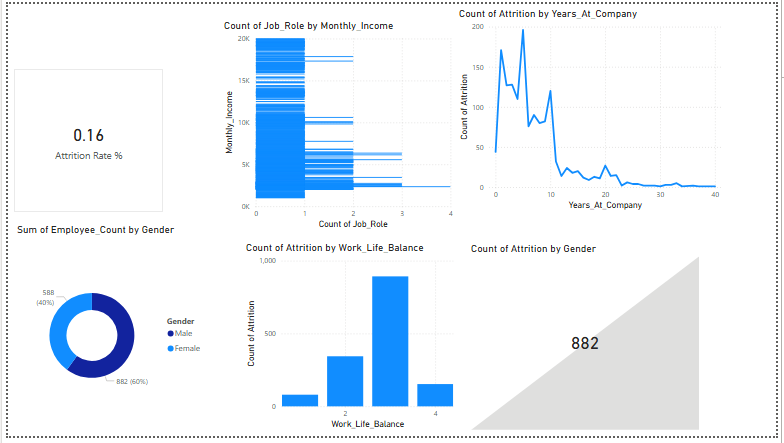

What the dashboard file says about the page in this screenshot:
{"tool":"powerbi","page":{"name":"Page 3","canvas":[1280,720],"ordinal":2},"visuals":[{"type":"card","fields":{"Values":["HR Data xlsx - HR data.Attrition Rate %"]},"box":[10,108.6,248.6,238.6],"z":0},{"type":"donutChart","fields":{"Category":["HR Data xlsx - HR data.Gender"],"Y":["Sum(HR Data xlsx - HR data.Employee_Count)"]},"box":[10,364.3,325.7,355.7],"z":1},{"type":"lineChart","fields":{"Category":["HR Data xlsx - HR data.Years_At_Company"],"Y":["CountNonNull(HR Data xlsx - HR data.Attrition)"]},"box":[746.7,4.3,446.7,343.3],"z":2},{"type":"barChart","fields":{"Y":["CountNonNull(HR Data xlsx - HR data.Job_Role)"],"Category":["HR Data xlsx - HR data.Monthly_Income"]},"box":[355,25,391.7,355],"z":3},{"type":"clusteredColumnChart","fields":{"Category":["HR Data xlsx - HR data.Work_Life_Balance"],"Y":["CountNonNull(HR Data xlsx - HR data.Attrition)"]},"box":[391.4,395.7,355.7,318.6],"z":4},{"type":"kpi","fields":{"Indicator":["CountNonNull(HR Data xlsx - HR data.Attrition)"],"TrendLine":["HR Data xlsx - HR data.Gender"]},"box":[766.7,396,390,318.3],"z":5}]}

Visuals, with their boxes in screenshot pixels (x1, y1, x2, y2), scaled from the page's 1280x720 canvas onto the 784x443 screenshot:
card - HR Data xlsx - HR data.Attrition Rate %: 6,67,158,214
donutChart - HR Data xlsx - HR data.Gender x Sum(HR Data xlsx - HR data.Employee_Count): 6,224,206,442
lineChart - HR Data xlsx - HR data.Years_At_Company x CountNonNull(HR Data xlsx - HR data.Attrition): 457,3,731,214
barChart - CountNonNull(HR Data xlsx - HR data.Job_Role) x HR Data xlsx - HR data.Monthly_Income: 217,15,457,234
clusteredColumnChart - HR Data xlsx - HR data.Work_Life_Balance x CountNonNull(HR Data xlsx - HR data.Attrition): 240,243,458,439
kpi - CountNonNull(HR Data xlsx - HR data.Attrition) x HR Data xlsx - HR data.Gender: 470,244,708,439
